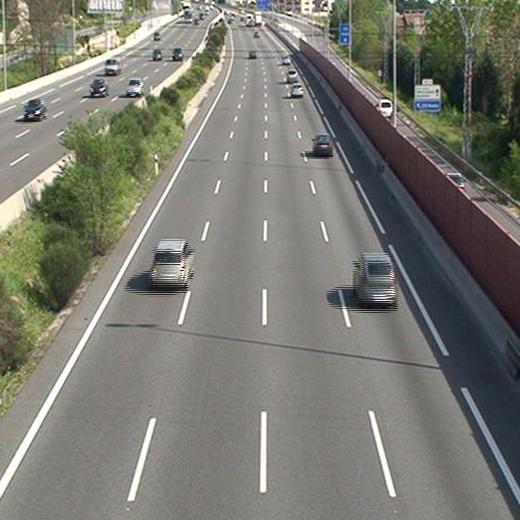car: (354, 253, 397, 305), (150, 241, 193, 289), (312, 135, 333, 156), (286, 69, 299, 83), (292, 83, 303, 96), (281, 54, 292, 66)
